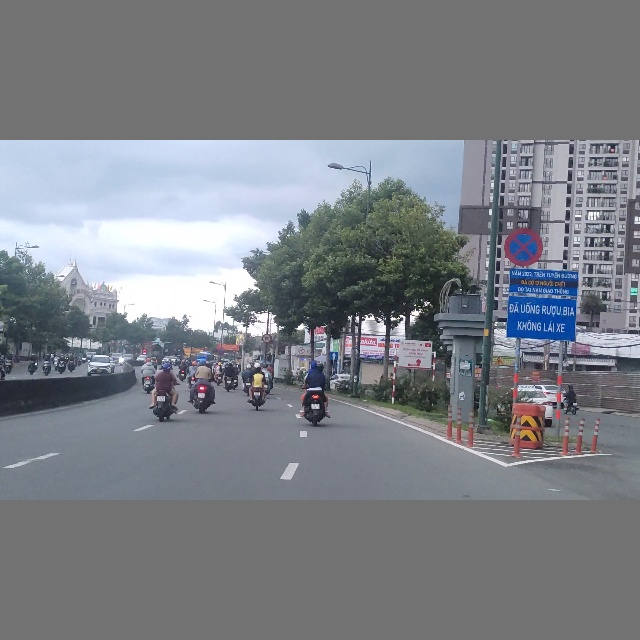I.407a: (329, 351, 338, 360)
P.123b: (262, 334, 271, 343)
P.130: (504, 228, 543, 267)
